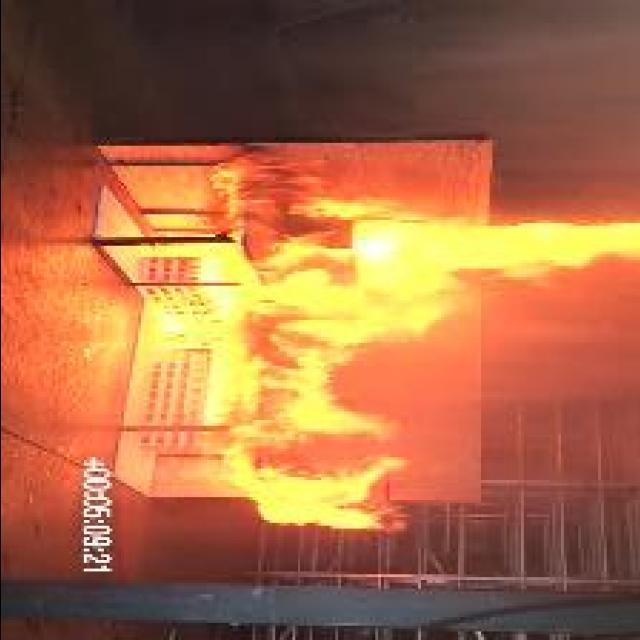Fire: (160, 154, 640, 532)
